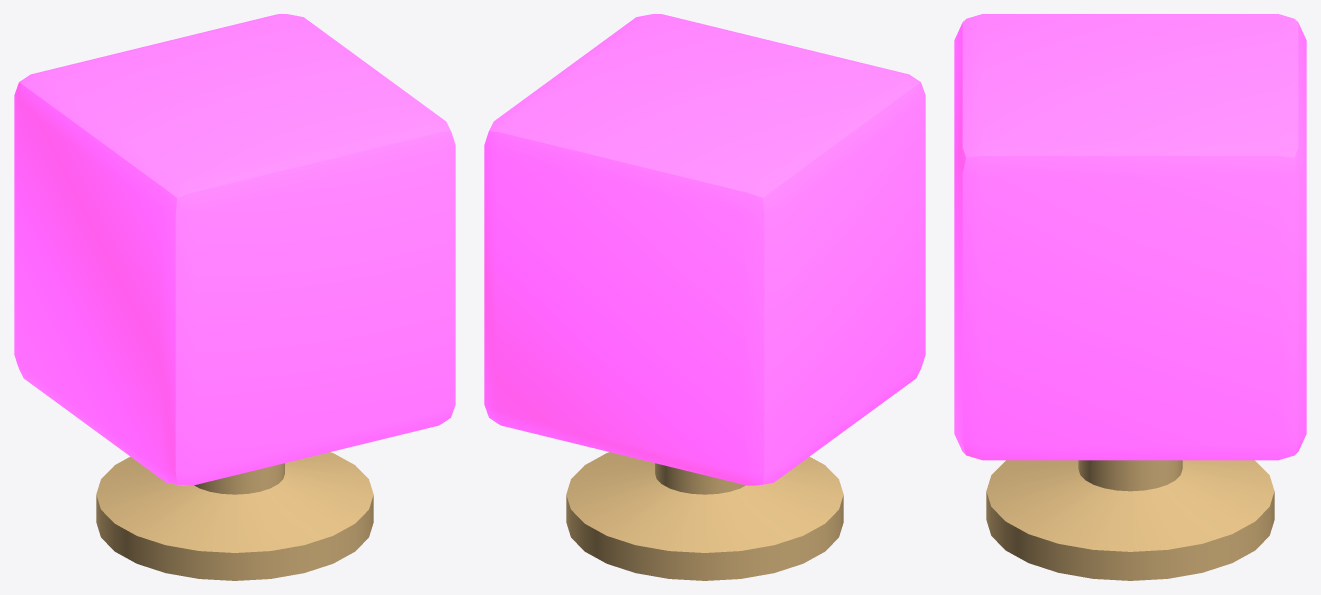
File: KIT_Luminaria_Cubo.glb
The picture shows the model from 3 angles, left to right: view 1: azimuth 30°, elevation 25°; view 2: azimuth 150°, elevation 25°; view 3: azimuth 270°, elevation 25°; orthographic projection. The views are drawn at different scales.
Parts seen in each view (by area): view 1: KIT_Luminaria_Cubo; view 2: KIT_Luminaria_Cubo; view 3: KIT_Luminaria_Cubo.
Part boxes in pixels (bbox=[...]): KIT_Luminaria_Cubo: bbox=[14, 14, 455, 580]; KIT_Luminaria_Cubo: bbox=[484, 14, 925, 580]; KIT_Luminaria_Cubo: bbox=[954, 14, 1306, 580].
Bounding box in the file's own units: 0.088 × 0.122 × 0.088.
